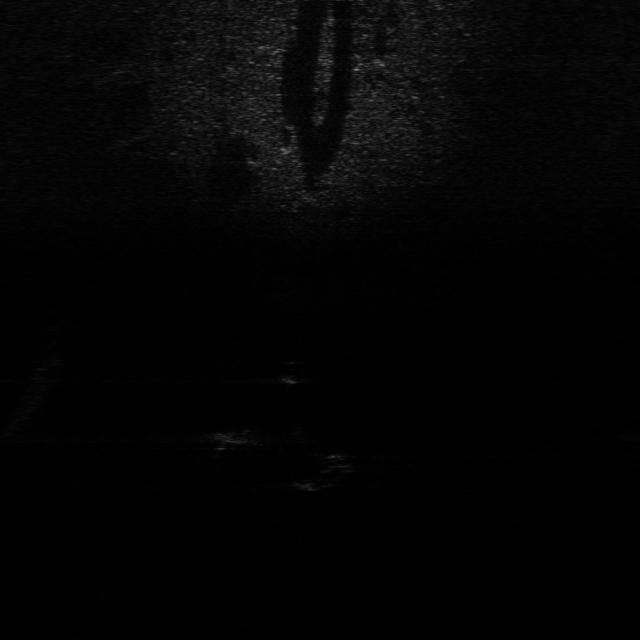ball: (277, 357, 314, 387)
square cage: (207, 421, 267, 451)
tyre: (291, 450, 363, 492)
